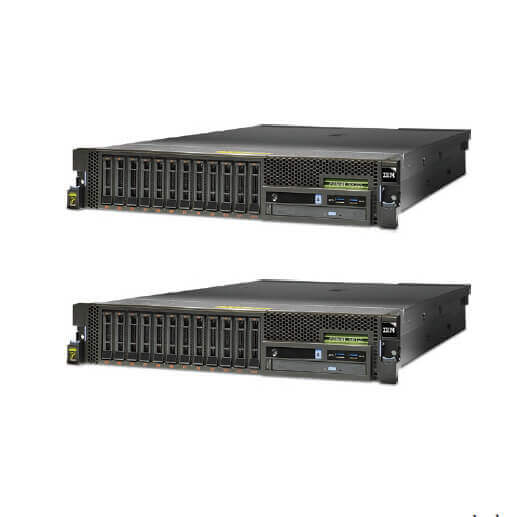ibm-server: (52, 268, 479, 393), (56, 115, 478, 239)
